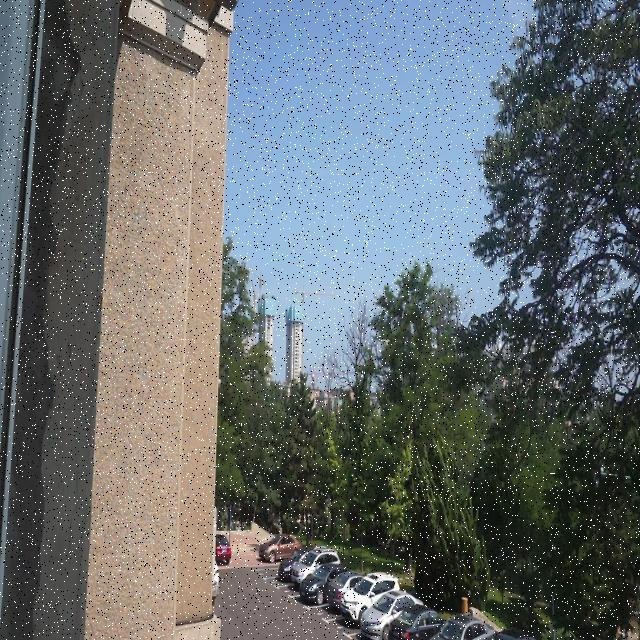UAV: (382, 338, 391, 346)
